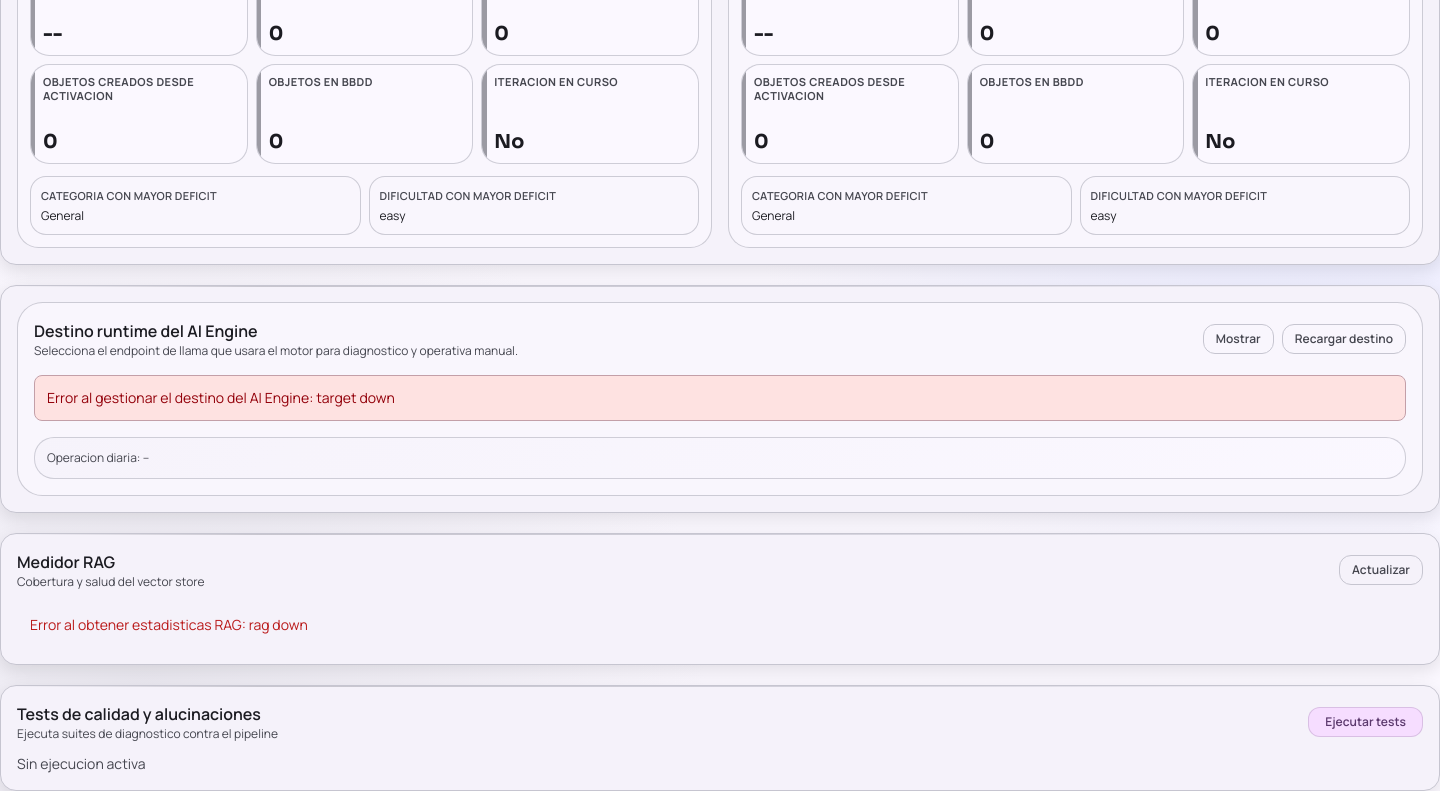
AIDiagnosticsPanel integration › shows rag, target and runner errors when diagnostics endpoints fail
(page scrolled)
Check: the text "Error al gestionar el destino del AI Engine: target down" is shown, box [34, 375, 1406, 421]
Check: the text "Error al obtener estadisticas RAG: rag down" is shown, box [30, 615, 308, 634]
Click the button "Ejecutar tests" at (1366, 722), box [1308, 707, 1423, 737]
(page scrolled)
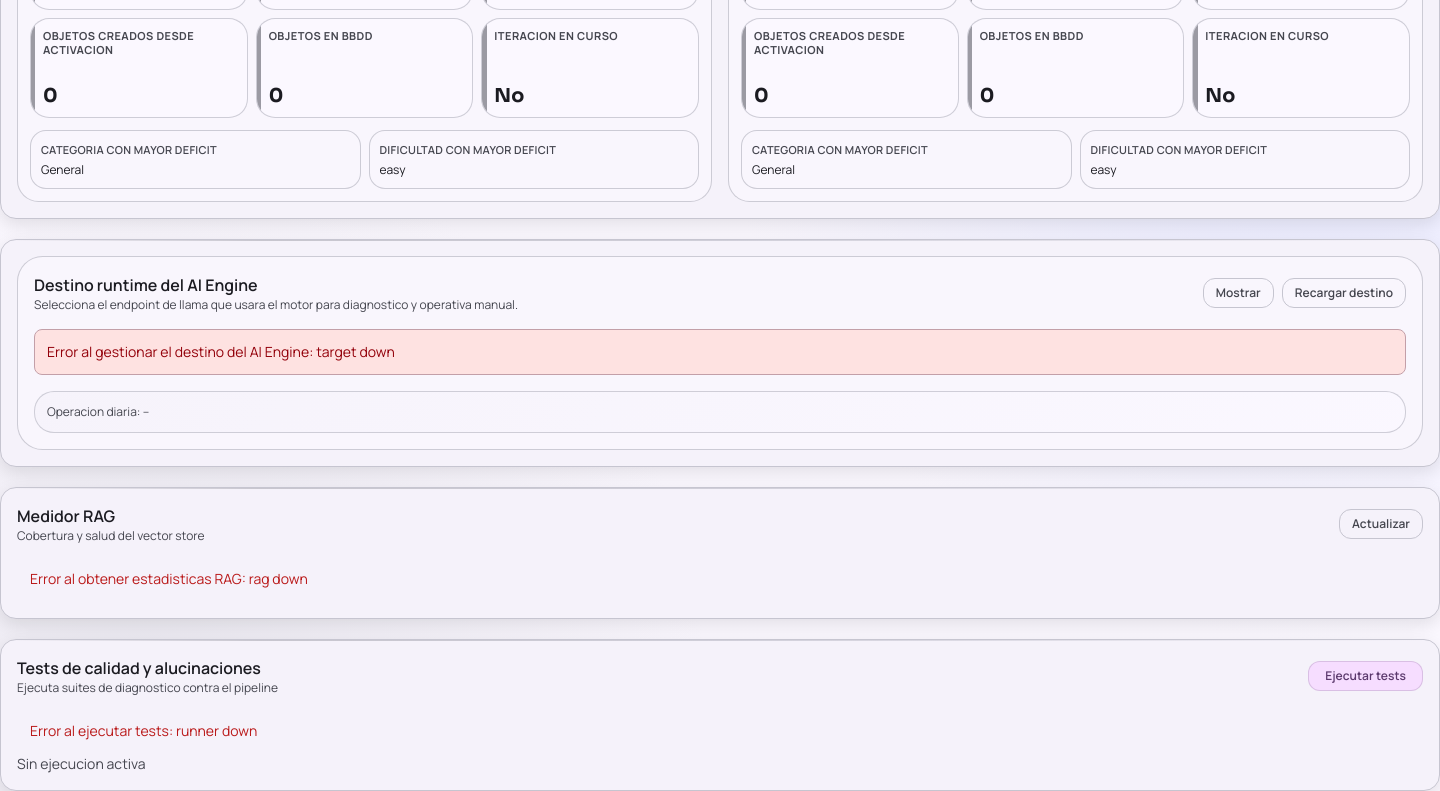
Check: the text "Error al ejecutar tests: runner down" is shown, box [30, 721, 257, 740]
